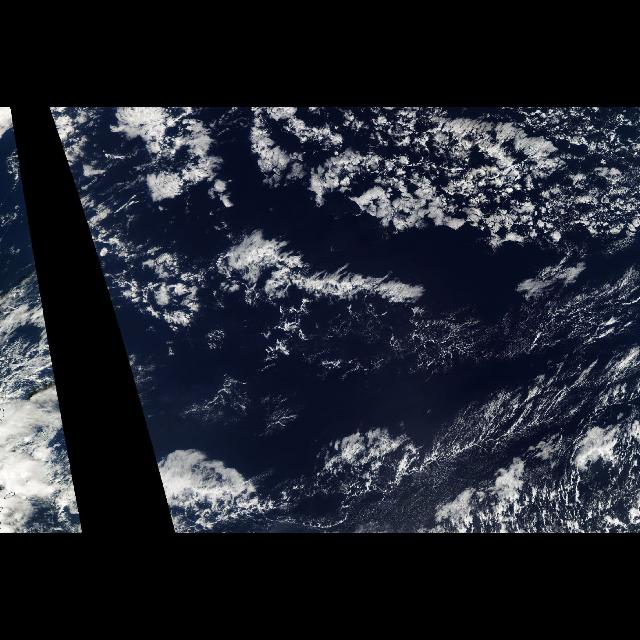Fish: (216, 217, 444, 329)
